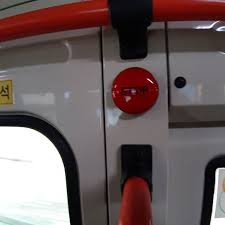bell: (110, 66, 162, 119)
